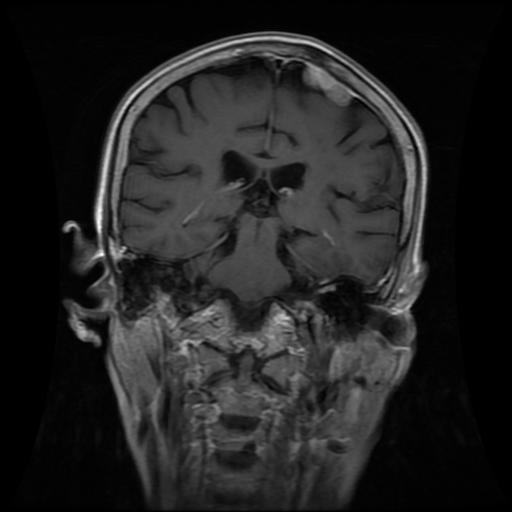Menigiomia_tumour: (302, 64, 352, 105)
